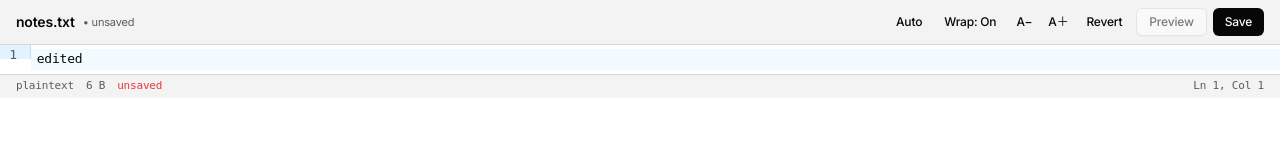
Test: FileTextEditor › retries a save after a failure without discarding the edits
The image size is (1280, 160).
Click the button "Save": (1238, 22) [1213, 8, 1264, 36]
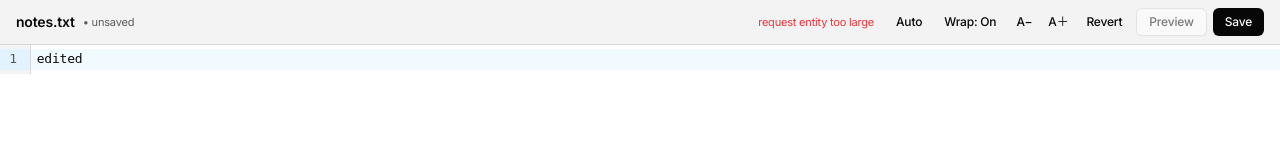
Expected: the text "unsaved" is shown, [83, 15, 134, 29]
Now the text "request entity too large" is shown, box [758, 14, 874, 30]
Click the button "Save": (1238, 22) [1213, 8, 1264, 36]
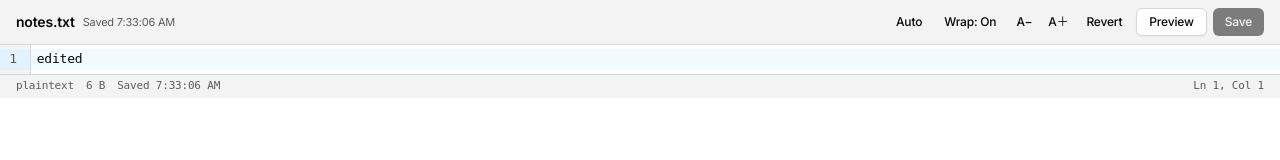
Now the text "request entity too large" is gone
Now the text "unsaved" is gone
